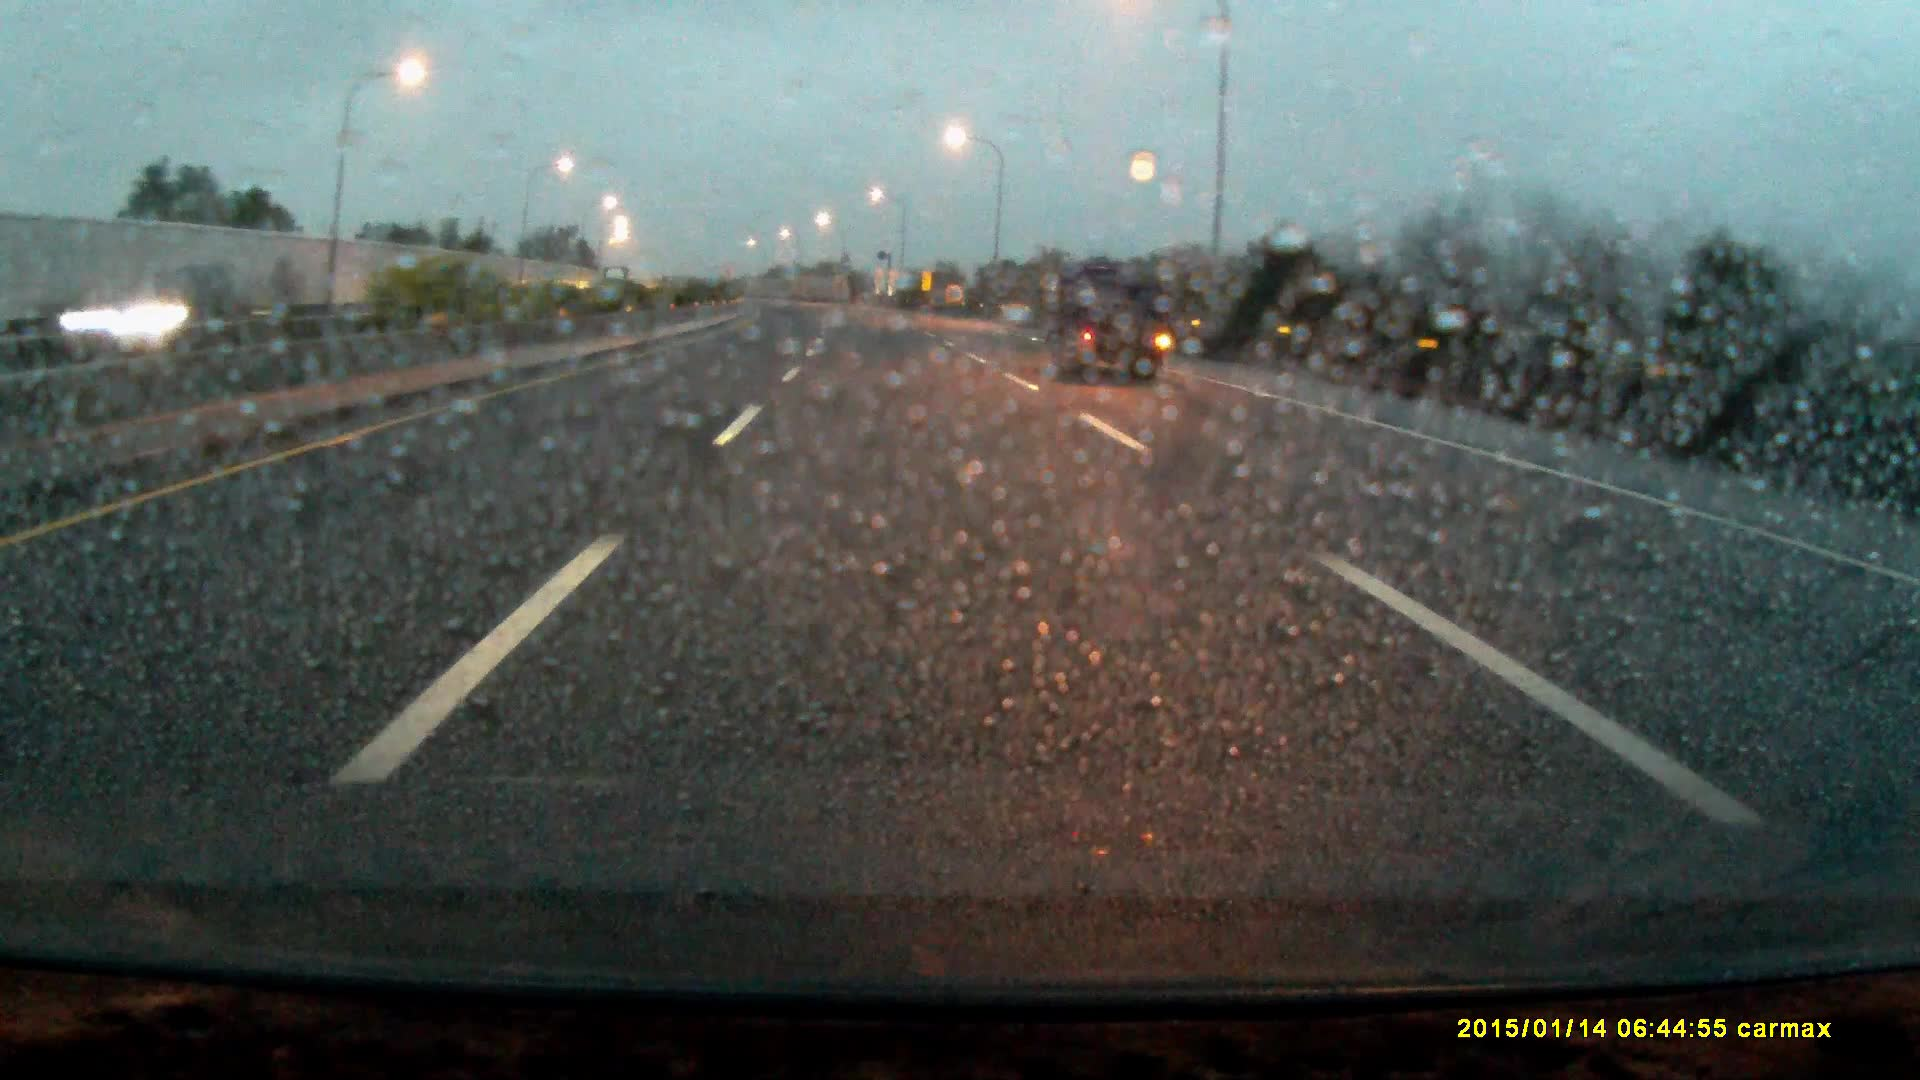vehicle: (1047, 264, 1171, 384), (604, 268, 630, 297)
